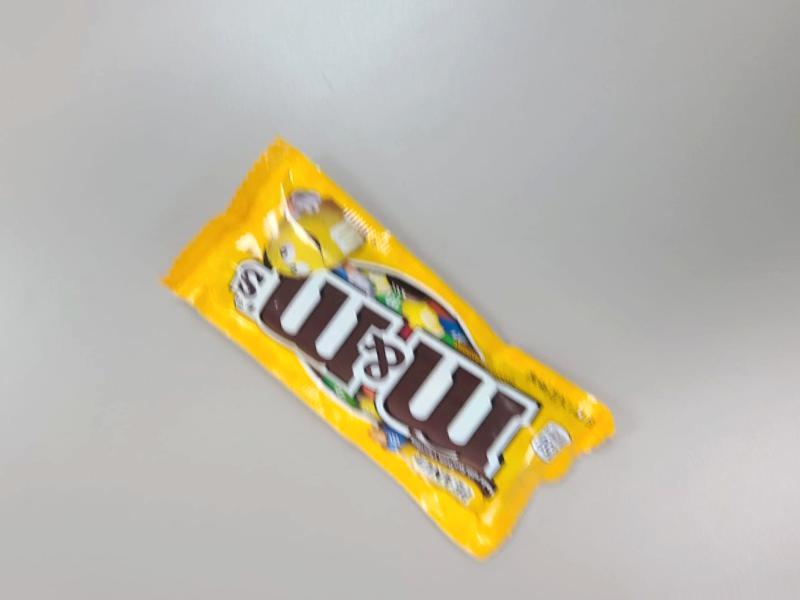m&m: (234, 145, 591, 494)
